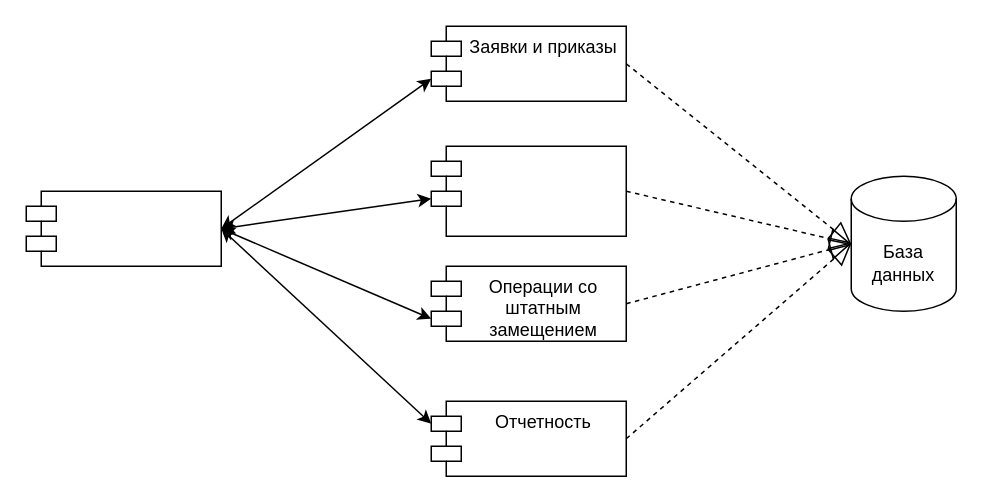
This 983x503 diagram has some shape labels left out. The shapes that lost their labels are listed below. From the top down, each one's box as (x1, y1, x2, y2) in pixels, then its label:
(430, 145, 626, 236): Работа со штатным расписанием
(25, 190, 221, 266): Интерфейс пользователя
